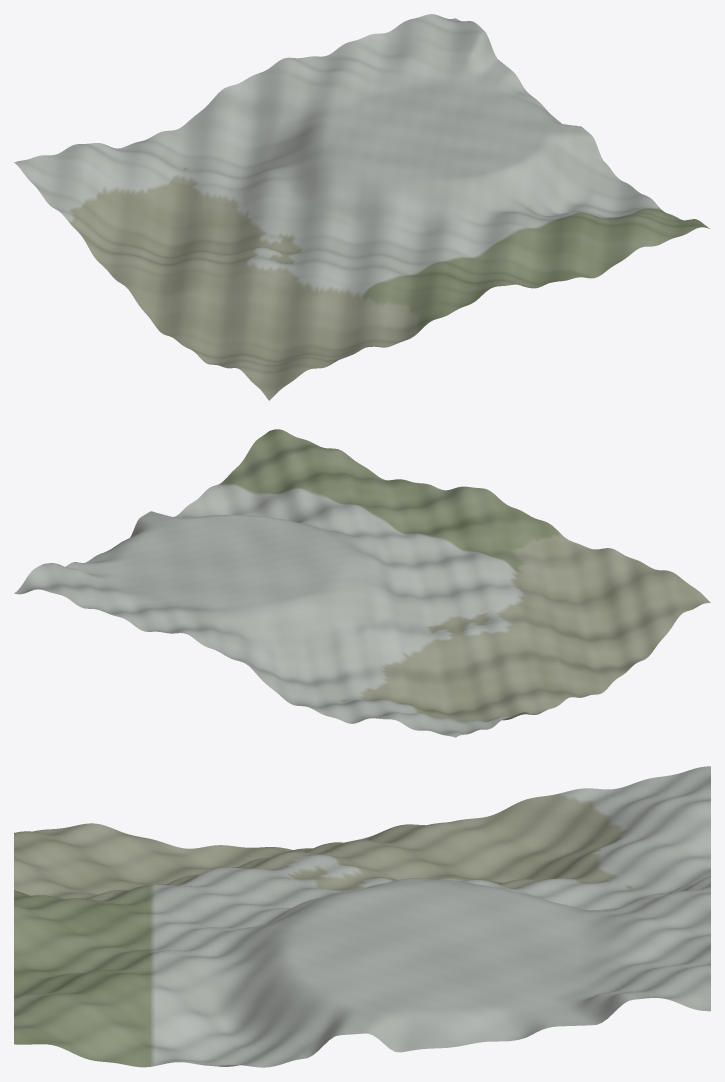
File: terrain_0_2.glb
The picture shows the model from 3 angles, top to bottom: view 1: azimuth 30°, elevation 25°; view 2: azimuth 150°, elevation 25°; view 3: azimuth 270°, elevation 25°; orthographic projection. The views are drawn at different scales.
Visible parts, largest first — view 1: terrain_0_2; view 2: terrain_0_2; view 3: terrain_0_2.
Boxes of the visible parts, left/top/right/bottom form: terrain_0_2: left=14, top=14, right=709, bottom=400; terrain_0_2: left=14, top=429, right=710, bottom=737; terrain_0_2: left=14, top=766, right=710, bottom=1067.
Bounding box in the file's own units: 512 × 123 × 512.
